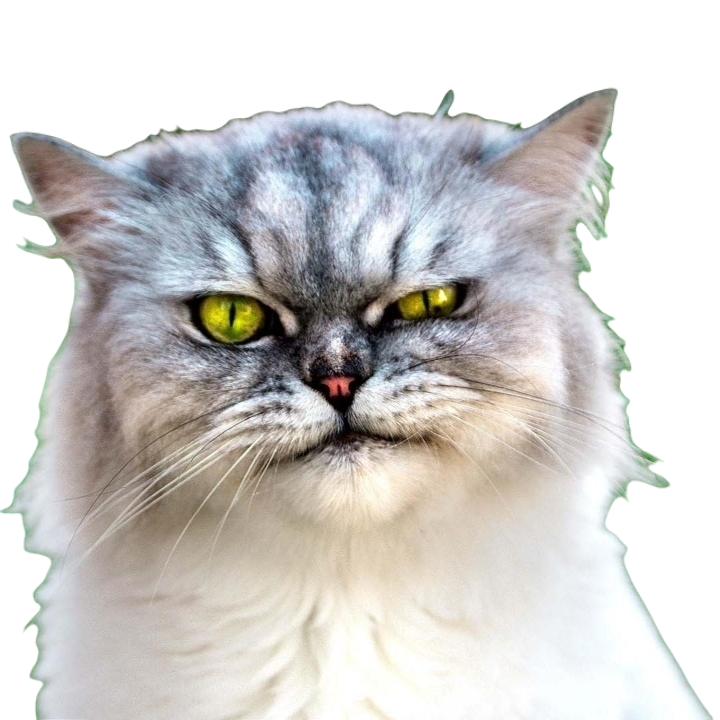Cat: (2, 80, 715, 719)
